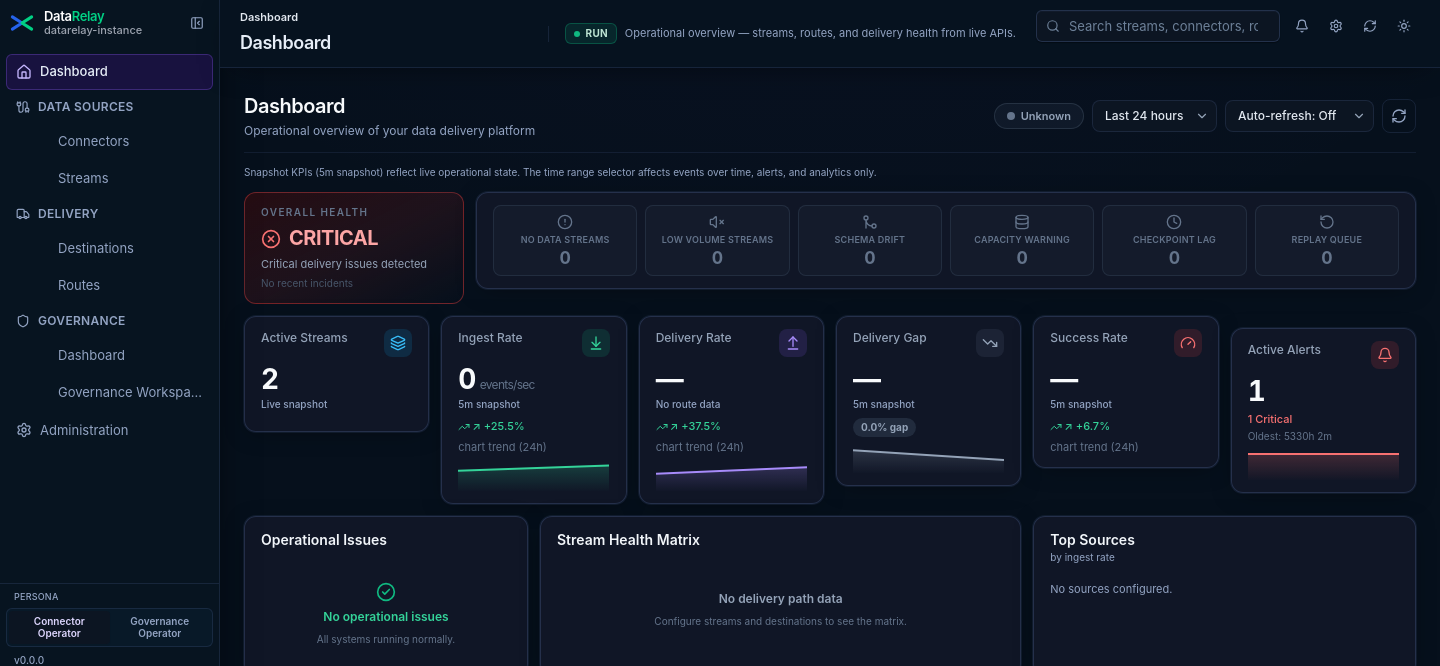
App shell (phase: sidebar, header, dashboard) › renders Streams operational console when Streams is selected
Click the button "Streams" at (110, 179), box [6, 161, 213, 196]
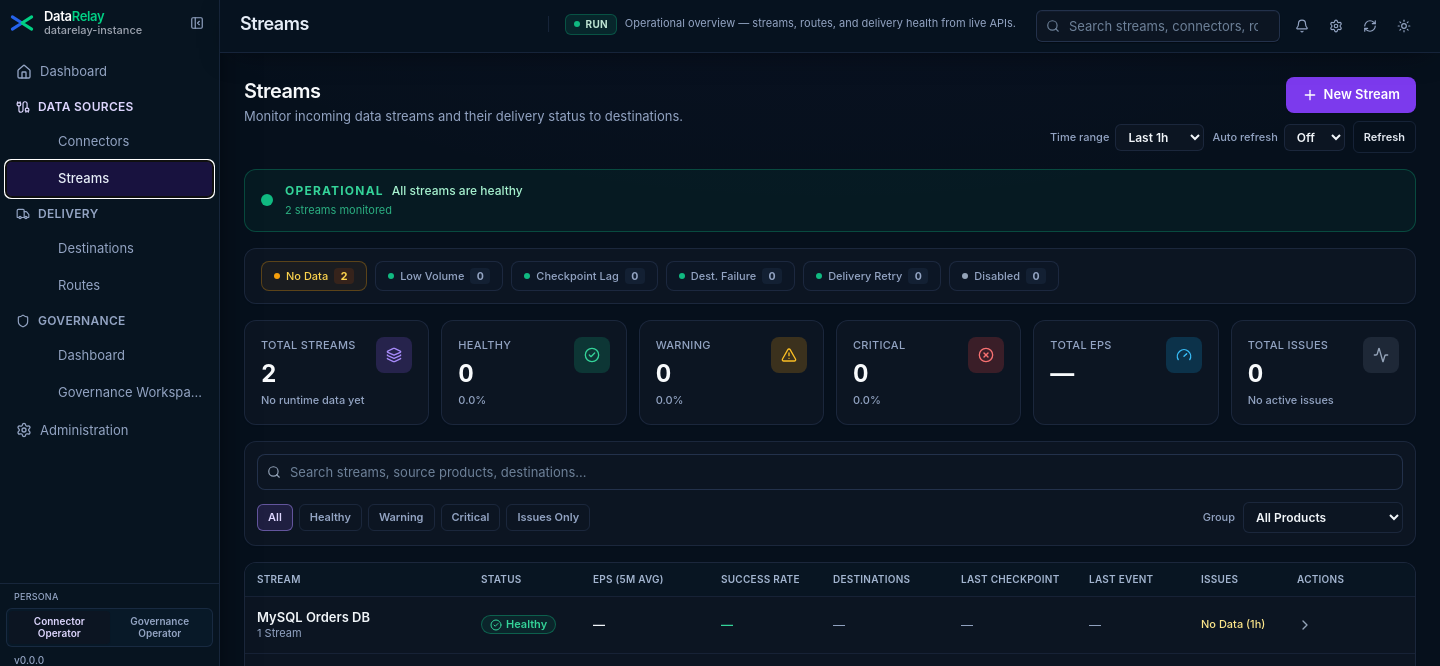
Result: the text "Monitor incoming data streams and their delivery status" is shown at [244, 108, 683, 124]
Result: the element named "Streams KPI summary" is shown at [244, 320, 1416, 425]
